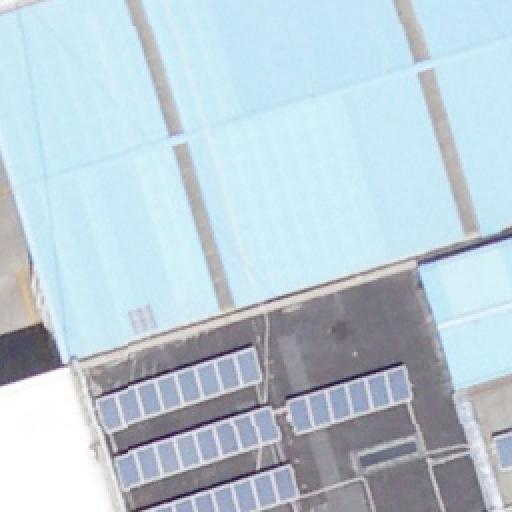solar-panel: (93, 343, 267, 433), (111, 404, 281, 496), (284, 362, 416, 438), (137, 464, 303, 512), (489, 427, 511, 469)
